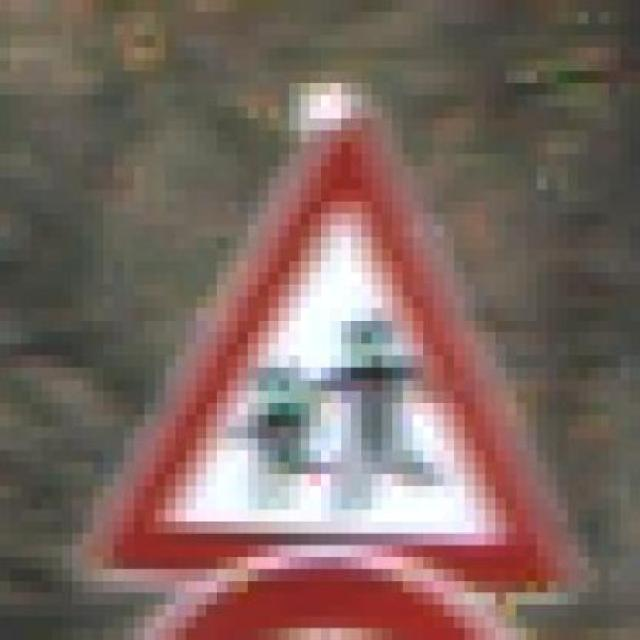Beware of children: (82, 83, 600, 617)
